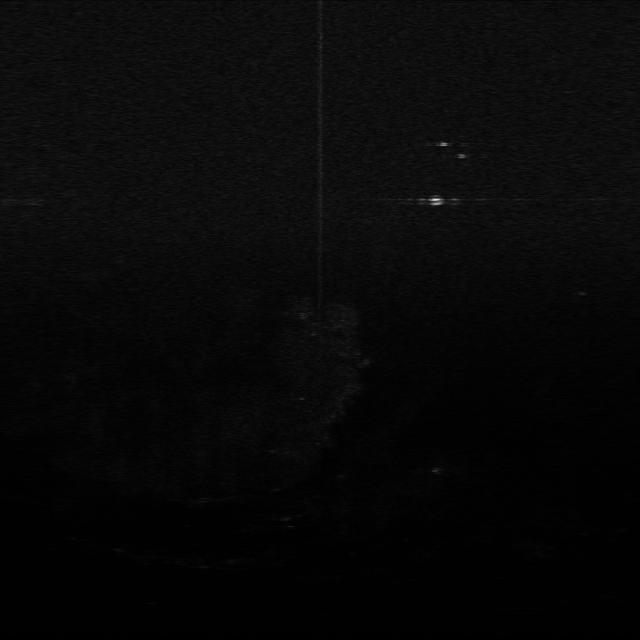rov: (424, 193, 456, 210)
